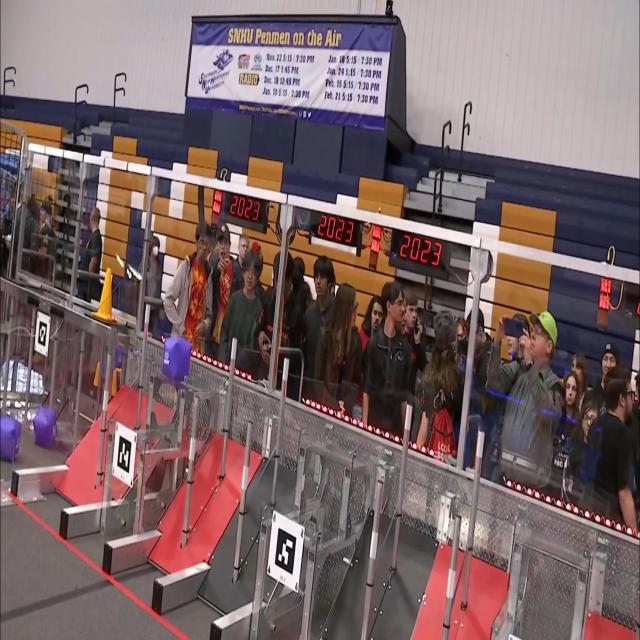frc_cone: (92, 267, 115, 322), (92, 360, 102, 388), (112, 368, 122, 396)
frc_cube: (161, 335, 192, 385), (34, 406, 59, 448), (0, 414, 21, 462), (113, 339, 124, 369)
